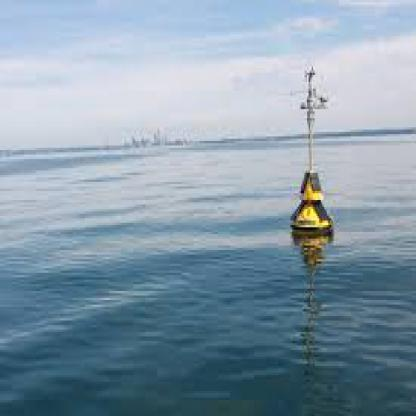buoy: (284, 45, 348, 248)
